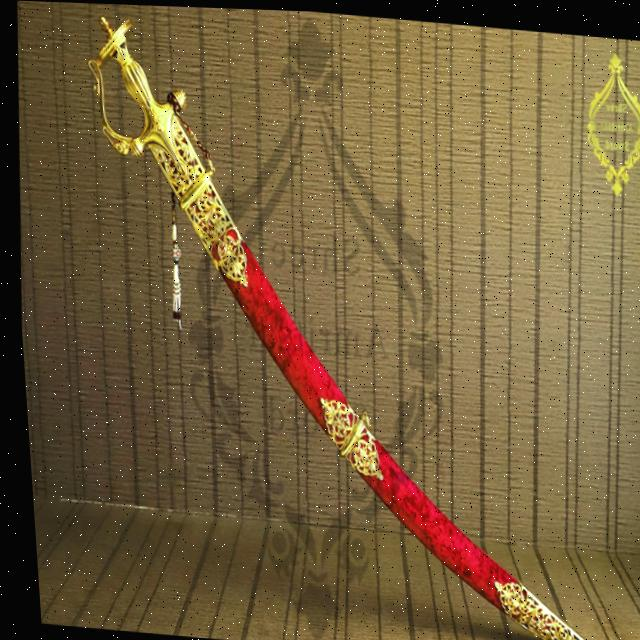knife: (48, 10, 608, 640)
